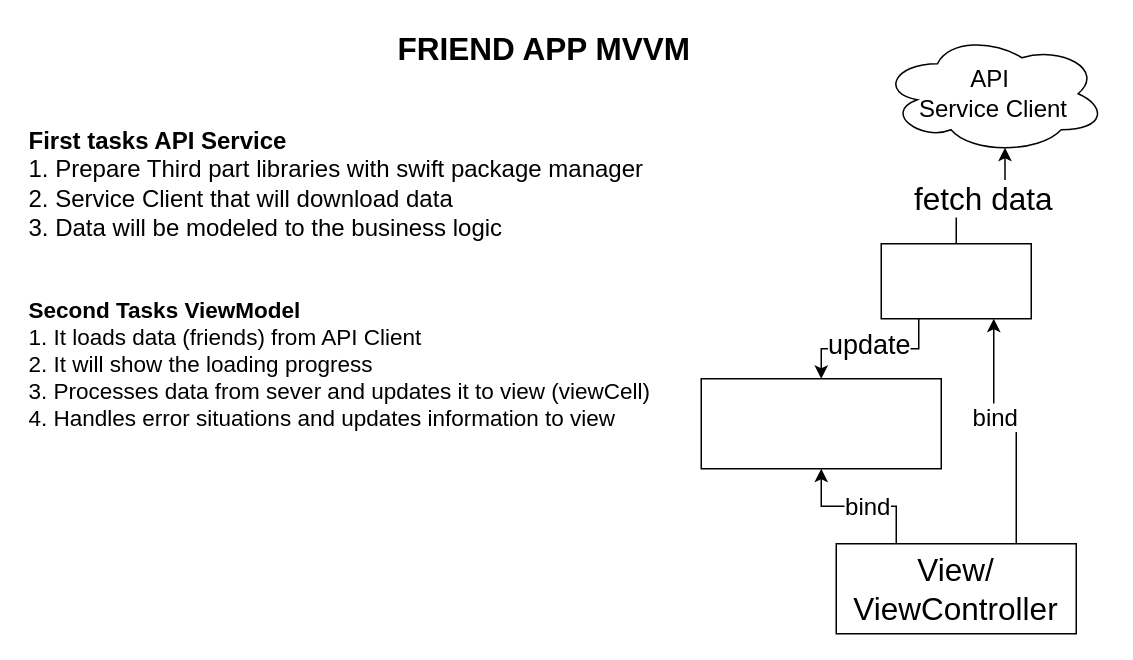
Image size: 1133x660. Some labels were removed from this diagram. The shapes that lost their labels are listed below. From the top down, each one's centre as x and y in pixels, then its label:
At pixel 955 280: "viewmodel".
At pixel 820 423: "ViewModelCellType".
